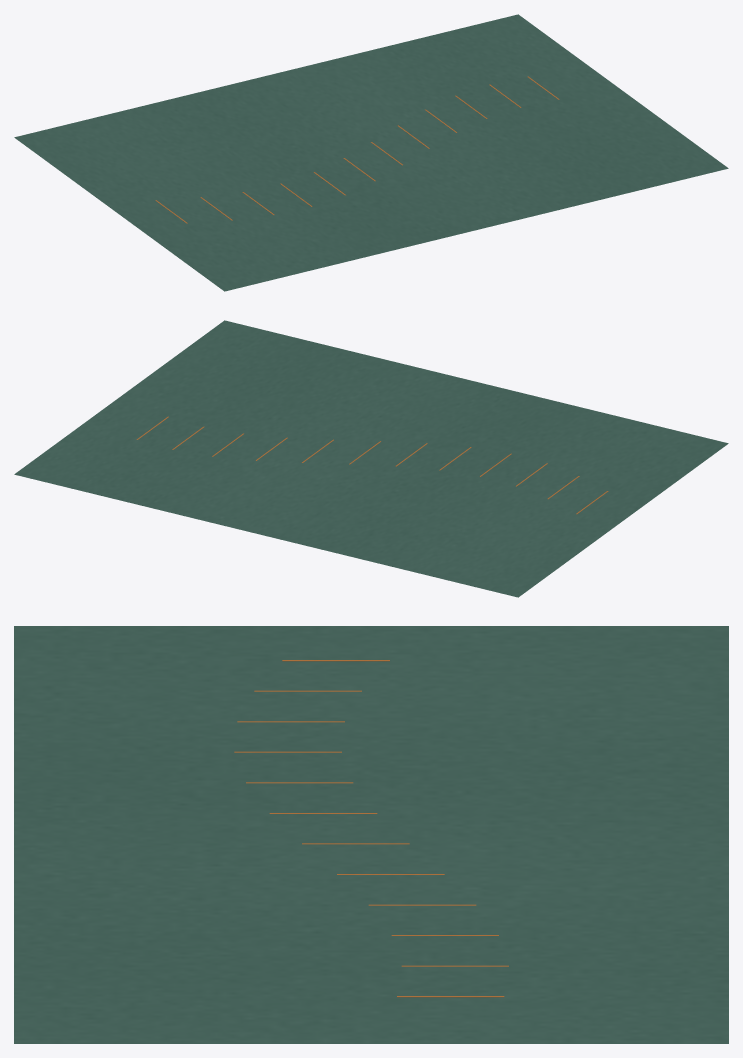
File: 285_L120_L20_LayerReference.obj
3 views of the same model, one above another, from view 1: azimuth 30°, elevation 25°; view 2: azimuth 150°, elevation 25°; view 3: azimuth 270°, elevation 25° (orthographic). The views are drawn at different scales.
Visible parts, largest first — view 1: 285_L120_L20_LayerReference; view 2: 285_L120_L20_LayerReference; view 3: 285_L120_L20_LayerReference.
Part boxes in pixels (x1=…): 285_L120_L20_LayerReference: x1=14, y1=14, x2=728, y2=291; 285_L120_L20_LayerReference: x1=14, y1=320, x2=728, y2=597; 285_L120_L20_LayerReference: x1=14, y1=626, x2=728, y2=1043.
Size of the model in its own units: 0.506 by 0.0001 by 0.366.
Materials: 2 (2 with a texture image).
